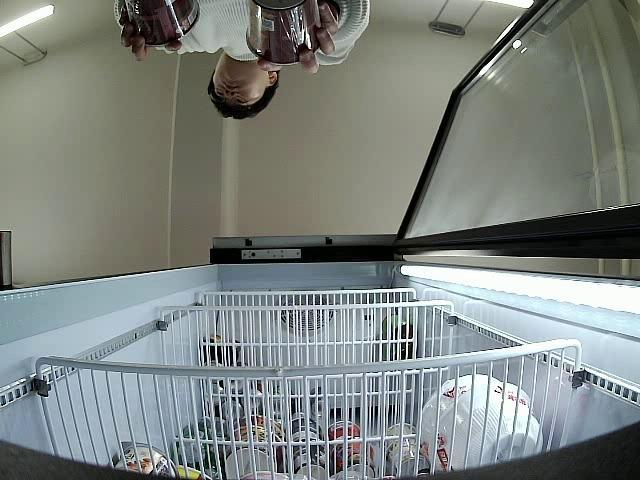06_nuguri_S: (244, 0, 325, 64), (120, 0, 199, 44)
